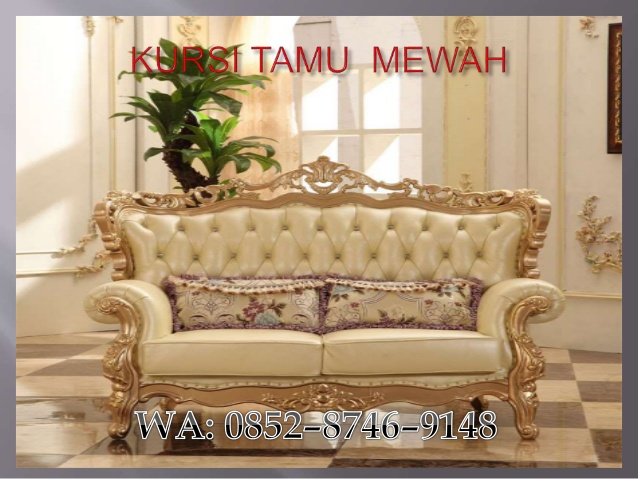Carving Chair: (93, 179, 551, 430)
